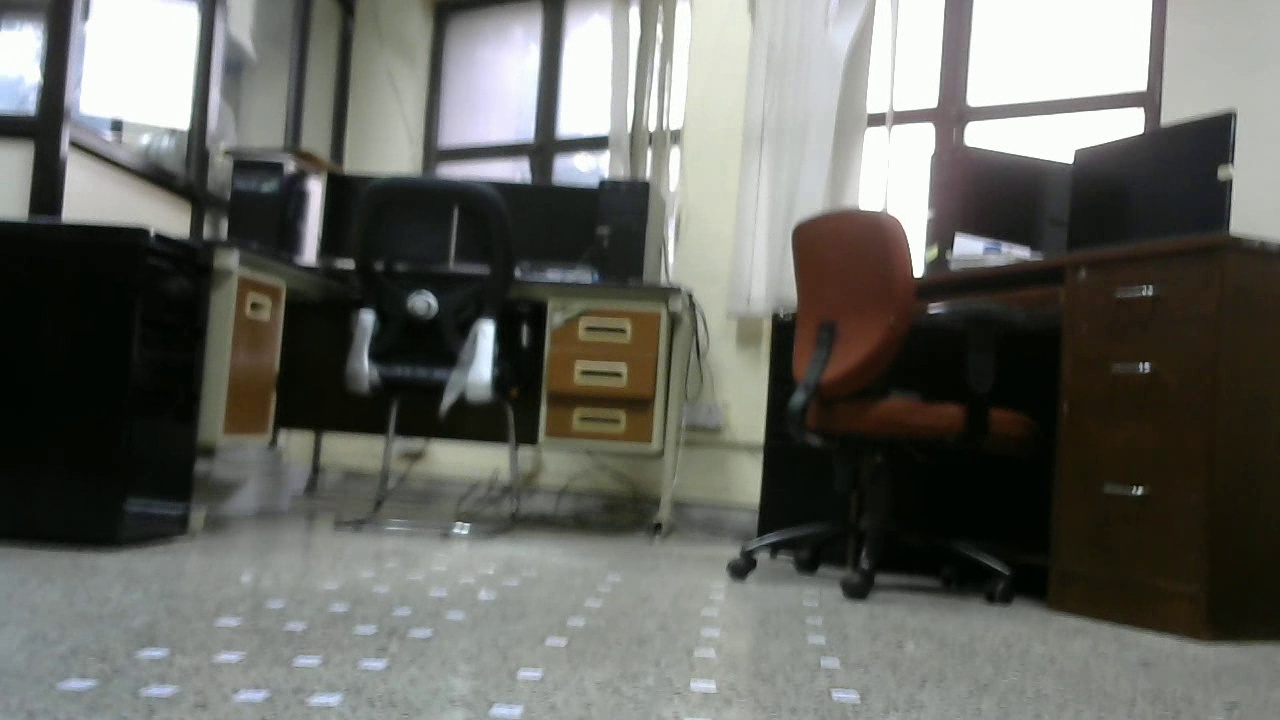chair: (727, 209, 1035, 601), (343, 168, 527, 541)
